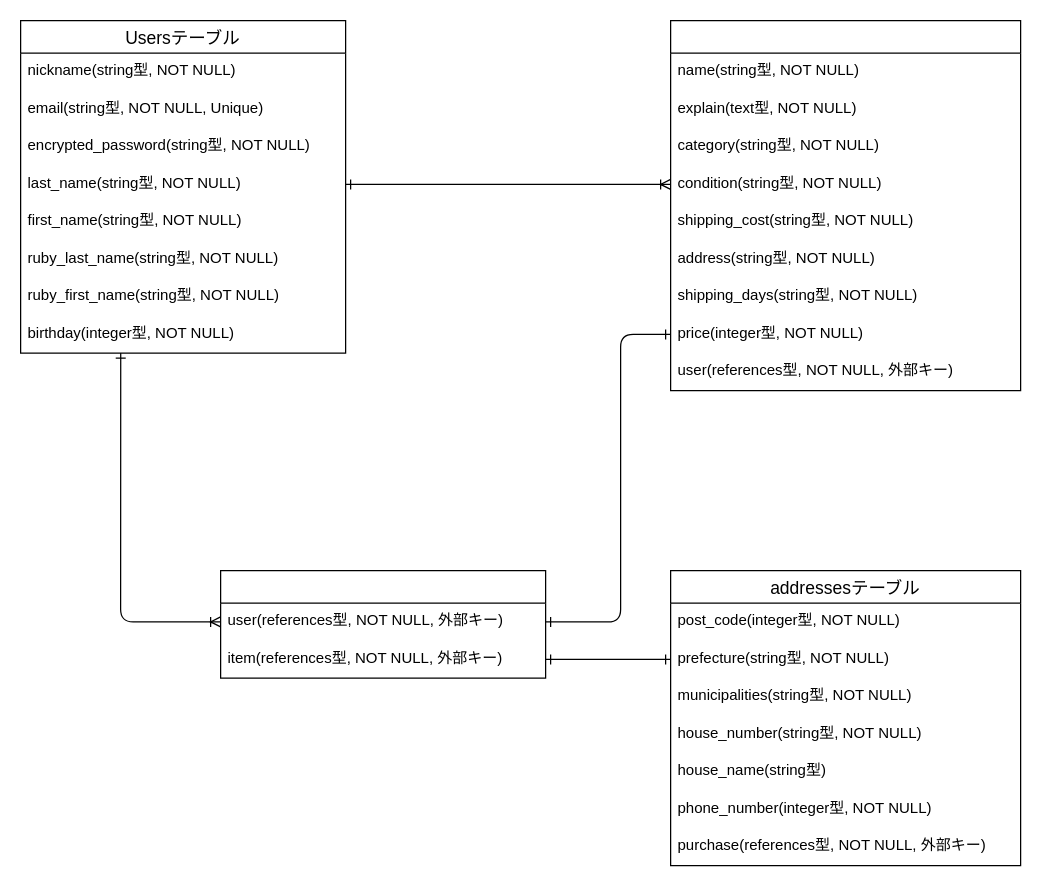
This 1041x886 diagram has some shape labels left out. The box of each missing label's shape, as (x1, y1, x2, y2) in pixels:
Itemsテーブル: (669, 19, 1021, 391)
purchasesテーブル: (219, 569, 546, 678)
